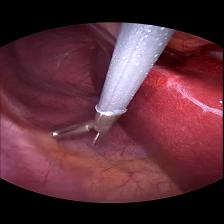Grasper: (48, 107, 126, 147)
